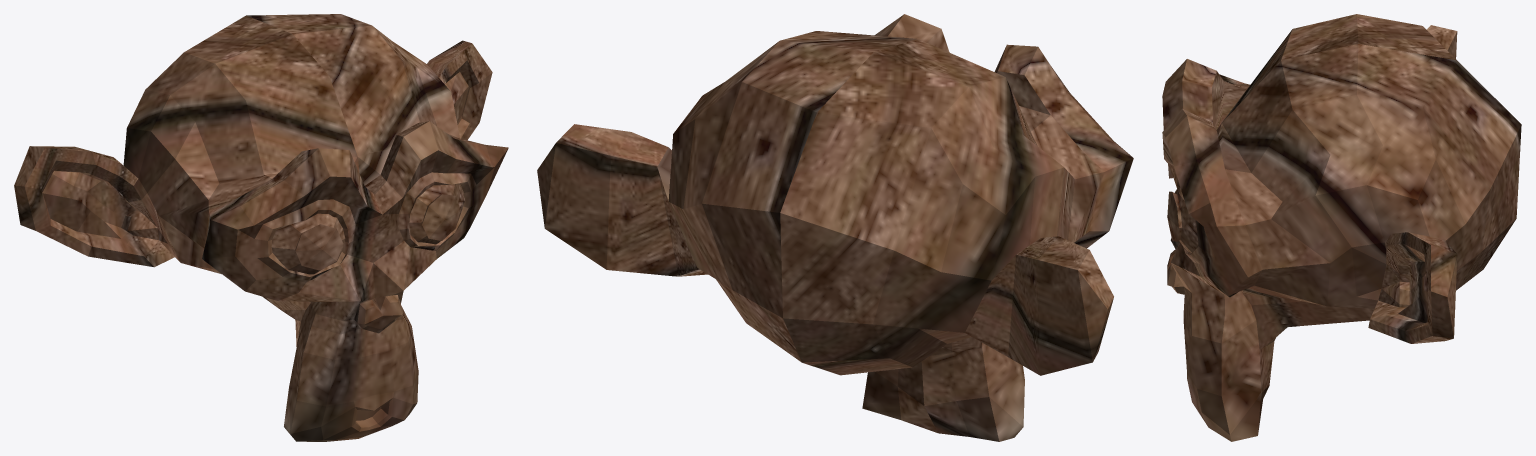
File: test-embed.gltf
The picture shows the model from 3 angles, left to right: view 1: azimuth 30°, elevation 25°; view 2: azimuth 150°, elevation 25°; view 3: azimuth 270°, elevation 25°; orthographic projection. The views are drawn at different scales.
Parts seen in each view (by area): view 1: Suzanne; view 2: Suzanne; view 3: Suzanne.
Boxes of the visible parts, x1,y1,x2,y2 form: Suzanne: (14, 14, 508, 441); Suzanne: (537, 14, 1133, 441); Suzanne: (1162, 14, 1521, 441).
Size of the model in its own units: 2.73 by 1.97 by 1.7.
Materials: 1 (1 with a texture image).
